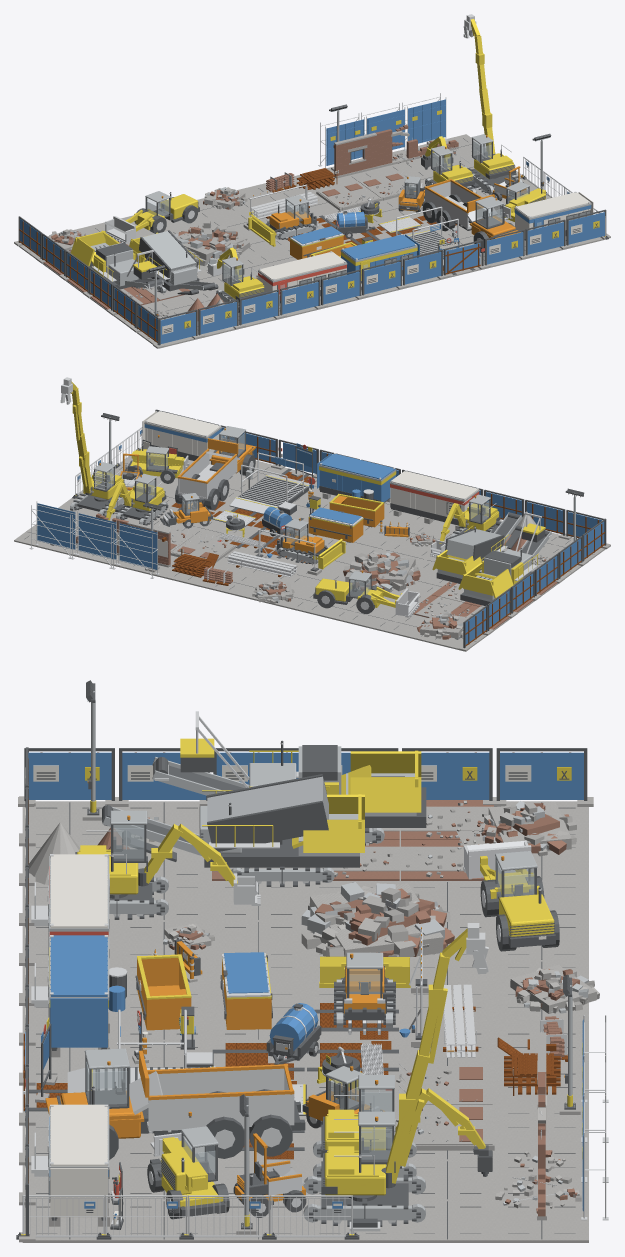
Rendered from demolition-and-site-clearance-demolition-f865c36c-starter-scene__35713.glb.
3 views of the same model, one above another, from view 1: azimuth 30°, elevation 25°; view 2: azimuth 150°, elevation 25°; view 3: azimuth 270°, elevation 25° (orthographic). The views are drawn at different scales.
Parts seen in each view (by area): view 1: 101-demolition-and-site-clearance-high-reach-demolition-exca (×3), 112-demolition-and-site-clearance-screening-plant/1, 129-demolition-and-site-clearance-site-office-cabin/2, 131-demolition-and-site-clearance-site-cabin-on-blocks/2, 115-demolition-and-site-clearance-articulated-hauler/skip/st, 130-demolition-and-site-clearance-welfare-unit/2, 094-demolition-and-site-clearance-debris-netting-scaffold-ba, 104-demolition-and-site-clearance-rubble-pile-large/0, 111-demolition-and-site-clearance-tracked-crusher/3, 095-demolition-and-site-clearance-demolition-wall-section/1, 111-demolition-and-site-clearance-tracked-crusher/1, 112-demolition-and-site-clearance-screening-plant/0 (+44 smaller); view 2: 101-demolition-and-site-clearance-high-reach-demolition-exca (×3), 129-demolition-and-site-clearance-site-office-cabin/2, 130-demolition-and-site-clearance-welfare-unit/2, 102-demolition-and-site-clearance-tracked-excavator-with-bre (×4), 131-demolition-and-site-clearance-site-cabin-on-blocks/2, 092-demolition-and-site-clearance-debris-netting-scaffold-ba (×2), 094-demolition-and-site-clearance-debris-netting-scaffold-ba (×2), 093-demolition-and-site-clearance-debris-netting-scaffold-ba (×2), 124-demolition-and-site-clearance-wheel-wash-frame/1, 111-demolition-and-site-clearance-tracked-crusher/3, 104-demolition-and-site-clearance-rubble-pile-large/0, 115-demolition-and-site-clearance-articulated-hauler/skip/st (+62 smaller); view 3: 101-demolition-and-site-clearance-high-reach-demolition-exca (×6), 112-demolition-and-site-clearance-screening-plant/0, 115-demolition-and-site-clearance-articulated-hauler/skip/st, 130-demolition-and-site-clearance-welfare-unit/2, 131-demolition-and-site-clearance-site-cabin-on-blocks/2, 104-demolition-and-site-clearance-rubble-pile-large/0, 112-demolition-and-site-clearance-screening-plant/1, 111-demolition-and-site-clearance-tracked-crusher/3, 129-demolition-and-site-clearance-site-office-cabin/2, 102-demolition-and-site-clearance-tracked-excavator-with-bre (×3), 060-demolition-and-site-clearance-site-ground-tile/0, 111-demolition-and-site-clearance-tracked-crusher/0 (+112 smaller).
Part boxes in pixels (<box>): 101-demolition-and-site-clearance-high-reach-demolition-exca (×3): <box>467,19,518,193</box>; 112-demolition-and-site-clearance-screening-plant/1: <box>142,231,215,293</box>; 129-demolition-and-site-clearance-site-office-cabin/2: <box>258,252,346,294</box>; 131-demolition-and-site-clearance-site-cabin-on-blocks/2: <box>515,192,593,239</box>; 115-demolition-and-site-clearance-articulated-hauler/skip/st: <box>425,181,497,229</box>; 130-demolition-and-site-clearance-welfare-unit/2: <box>341,234,419,274</box>; 094-demolition-and-site-clearance-debris-netting-scaffold-ba: <box>408,99,445,143</box>; 104-demolition-and-site-clearance-rubble-pile-large/0: <box>176,220,250,265</box>; 111-demolition-and-site-clearance-tracked-crusher/3: <box>70,230,156,281</box>; 095-demolition-and-site-clearance-demolition-wall-section/1: <box>334,135,376,176</box>; 111-demolition-and-site-clearance-tracked-crusher/1: <box>89,242,171,317</box>; 112-demolition-and-site-clearance-screening-plant/0: <box>136,230,218,294</box>; 101-demolition-and-site-clearance-high-reach-demolition-exca (×3): <box>70,381,125,517</box>; 129-demolition-and-site-clearance-site-office-cabin/2: <box>390,471,478,519</box>; 130-demolition-and-site-clearance-welfare-unit/2: <box>317,453,395,502</box>; 102-demolition-and-site-clearance-tracked-excavator-with-bre (×4): <box>106,473,168,525</box>; 131-demolition-and-site-clearance-site-cabin-on-blocks/2: <box>142,411,221,459</box>; 092-demolition-and-site-clearance-debris-netting-scaffold-ba (×2): <box>112,521,159,578</box>; 094-demolition-and-site-clearance-debris-netting-scaffold-ba (×2): <box>29,501,77,558</box>; 093-demolition-and-site-clearance-debris-netting-scaffold-ba (×2): <box>70,511,118,568</box>; 124-demolition-and-site-clearance-wheel-wash-frame/1: <box>229,452,315,514</box>; 111-demolition-and-site-clearance-tracked-crusher/3: <box>458,523,545,598</box>; 104-demolition-and-site-clearance-rubble-pile-large/0: <box>343,552,419,592</box>; 115-demolition-and-site-clearance-articulated-hauler/skip/st: <box>178,451,240,499</box>; 101-demolition-and-site-clearance-high-reach-demolition-exca (×6): <box>303,923,488,1227</box>; 112-demolition-and-site-clearance-screening-plant/0: <box>102,774,359,886</box>; 115-demolition-and-site-clearance-articulated-hauler/skip/st: <box>129,1068,294,1133</box>; 130-demolition-and-site-clearance-welfare-unit/2: <box>50,935,125,1047</box>; 131-demolition-and-site-clearance-site-cabin-on-blocks/2: <box>50,1104,107,1217</box>; 104-demolition-and-site-clearance-rubble-pile-large/0: <box>301,883,450,956</box>; 112-demolition-and-site-clearance-screening-plant/1: <box>102,776,359,882</box>; 111-demolition-and-site-clearance-tracked-crusher/3: <box>180,738,421,812</box>; 129-demolition-and-site-clearance-site-office-cabin/2: <box>50,854,109,928</box>; 102-demolition-and-site-clearance-tracked-excavator-with-bre (×3): <box>313,1075,485,1177</box>; 060-demolition-and-site-clearance-site-ground-tile/0: <box>494,1200,588,1242</box>; 111-demolition-and-site-clearance-tracked-crusher/0: <box>153,740,426,844</box>.
Size of the model in its own units: 44.4 by 13.72 by 25.09.
Materials: 12 (3 with a texture image).
